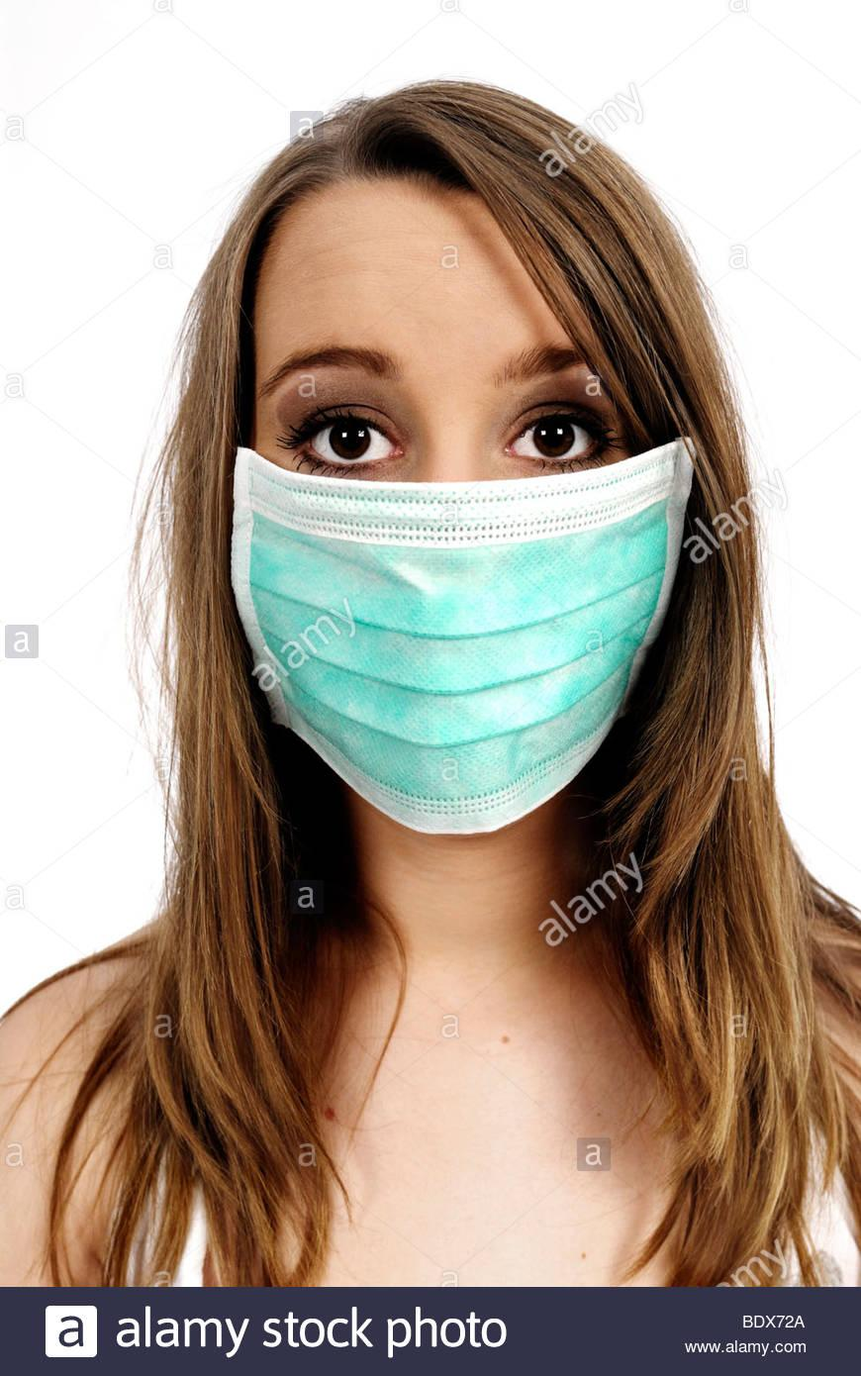Wearing Mask: (209, 155, 769, 894)
